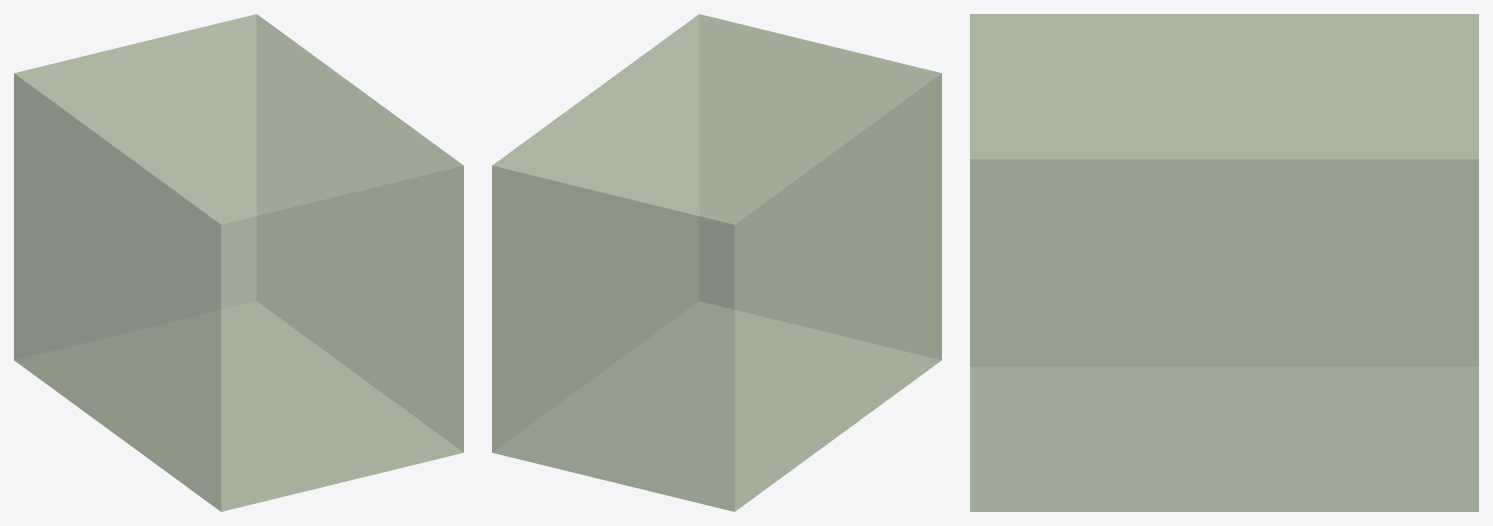
Rendered from blockout.glb.
3 views of the same model, side by side, from view 1: azimuth 30°, elevation 25°; view 2: azimuth 150°, elevation 25°; view 3: azimuth 270°, elevation 25° (orthographic). The views are drawn at different scales.
Visible parts, largest first — view 1: U09_ENVELOPE_NOT_FINAL_MESH; view 2: U09_ENVELOPE_NOT_FINAL_MESH; view 3: U09_ENVELOPE_NOT_FINAL_MESH.
Boxes of the visible parts, <box> form: U09_ENVELOPE_NOT_FINAL_MESH: <box>14,14,463,511</box>; U09_ENVELOPE_NOT_FINAL_MESH: <box>492,14,941,511</box>; U09_ENVELOPE_NOT_FINAL_MESH: <box>970,14,1478,511</box>.
Bounding box in the file's own units: 1.15 × 1.3 × 1.7.
